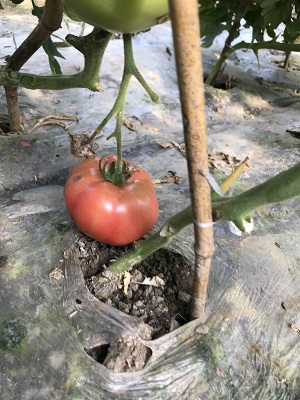mature-tomato: (65, 153, 160, 244)
